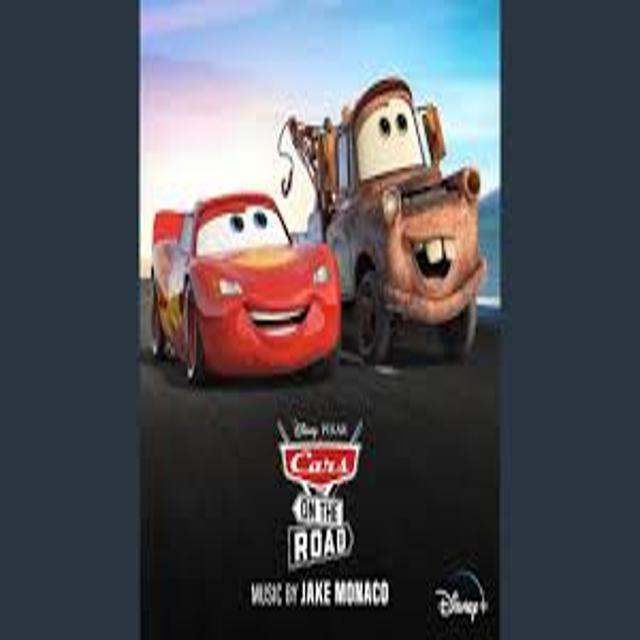car: (307, 80, 484, 360), (151, 194, 342, 382)
